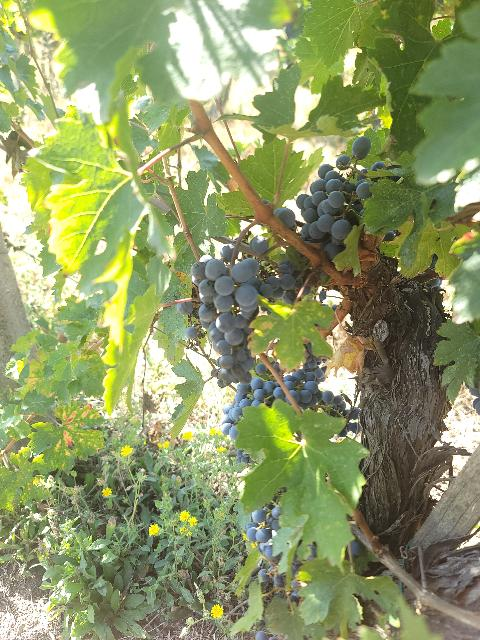grapes: (190, 255, 259, 371), (296, 164, 371, 260), (284, 351, 360, 438), (221, 376, 290, 439)
